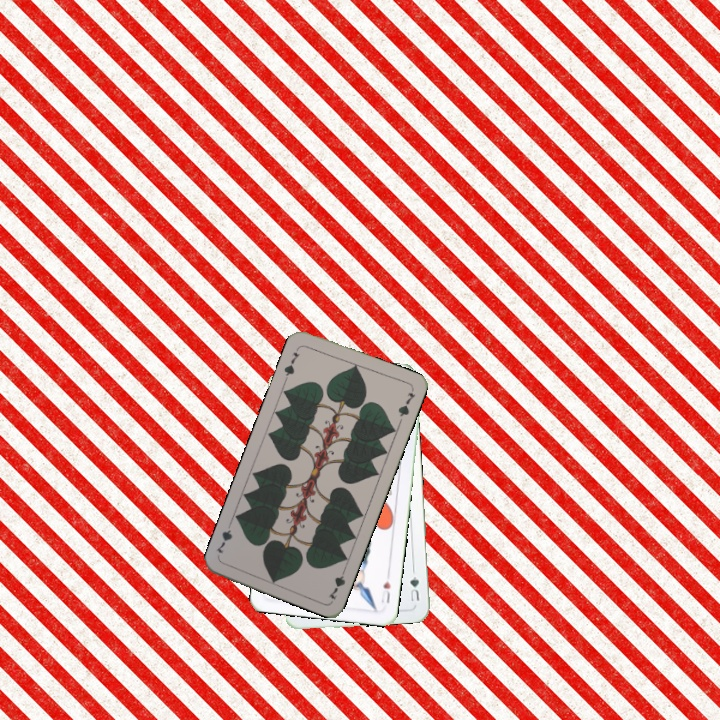G7: (324, 563, 349, 602), (280, 348, 302, 383)
GU: (406, 572, 422, 604)
HU: (377, 577, 393, 607)
